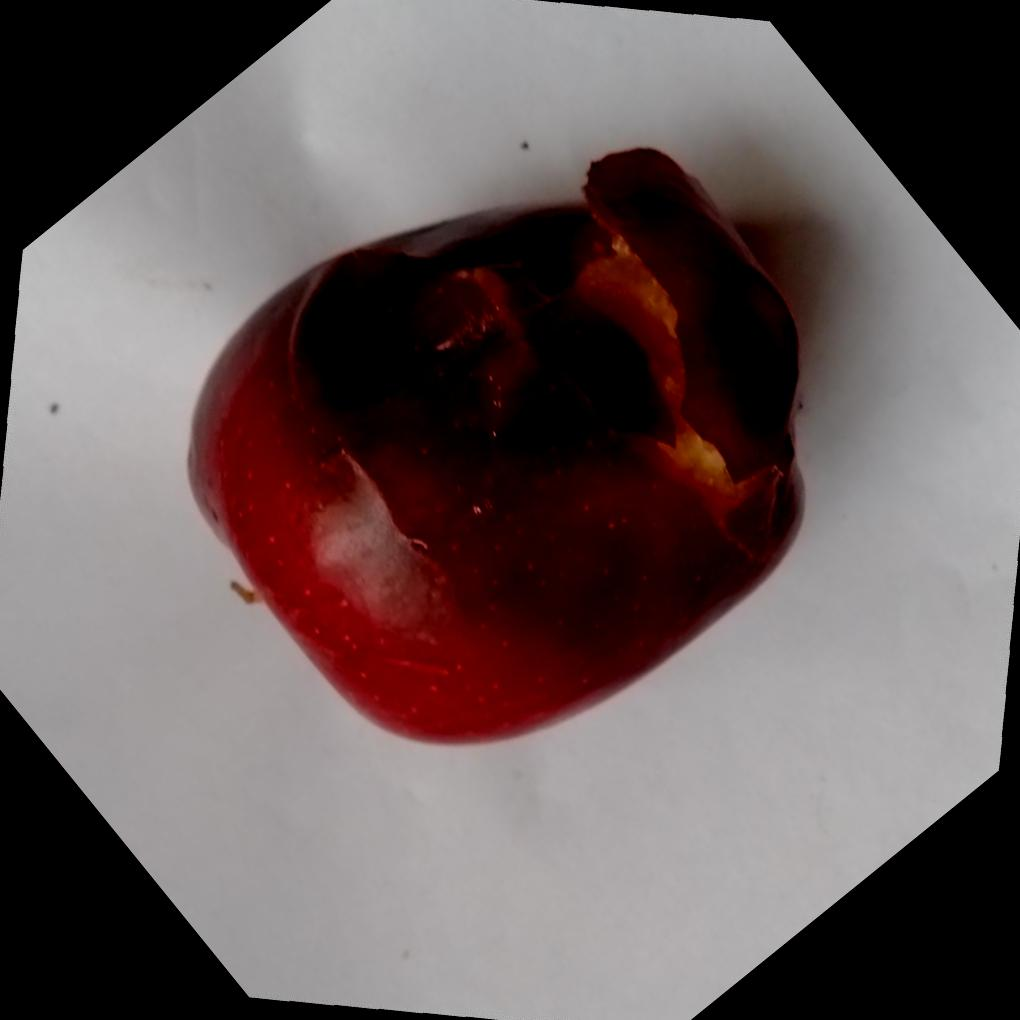FreshOrange: (183, 142, 807, 745)
